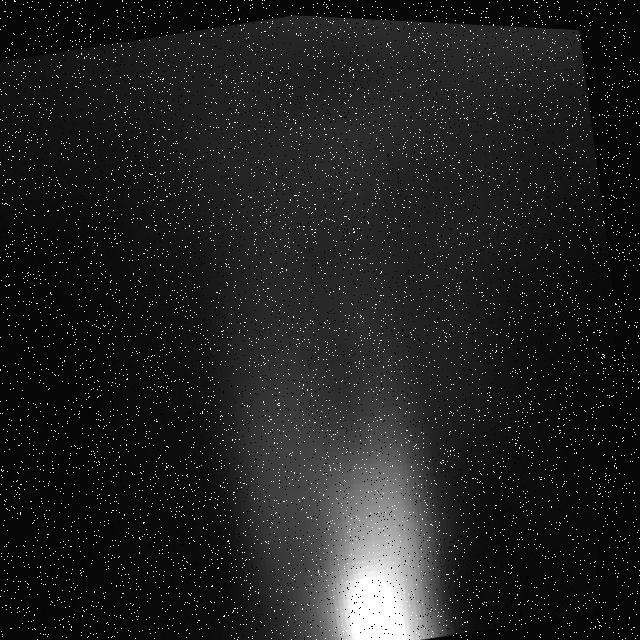person: (181, 159, 525, 640)
